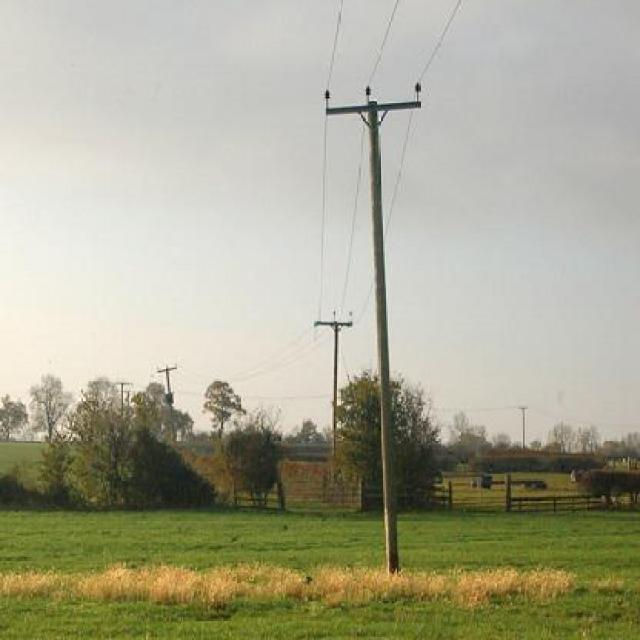pole: (316, 78, 436, 570)
